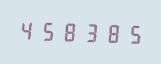eight: (102, 20, 122, 45), (60, 19, 80, 43)
five: (38, 18, 58, 43), (123, 21, 143, 46)
four: (17, 17, 37, 42)
three: (81, 20, 101, 44)
